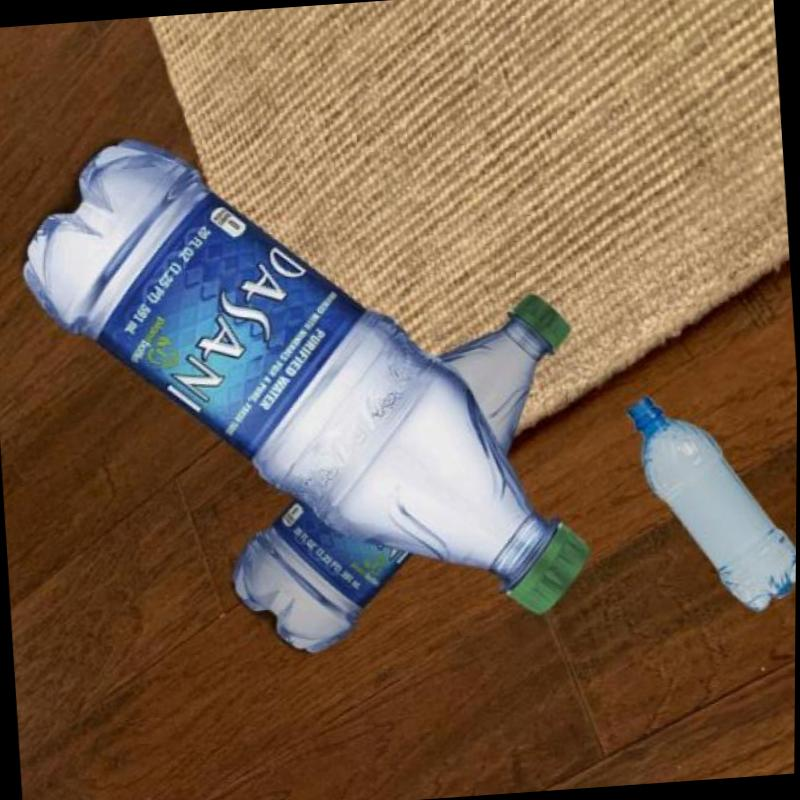botella: (7, 110, 592, 648), (212, 288, 592, 662), (626, 387, 798, 617)
